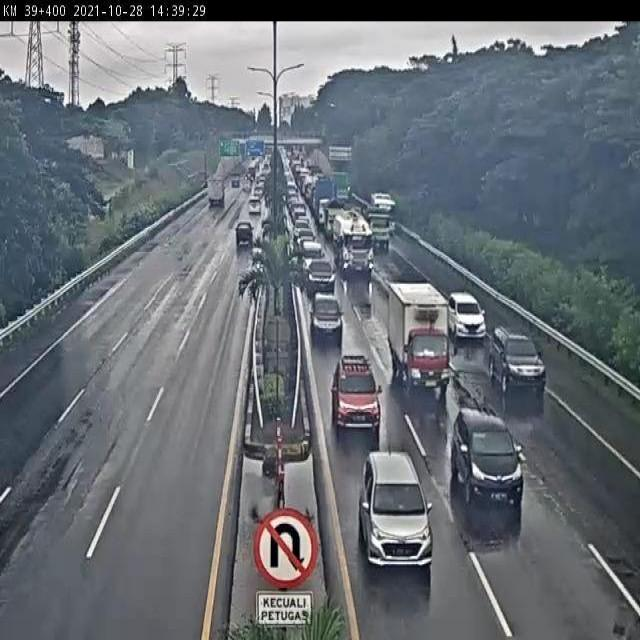big truck: (332, 209, 374, 275)
car: (353, 436, 436, 576), (447, 402, 530, 514), (489, 326, 548, 402), (329, 355, 381, 432), (446, 289, 486, 340), (309, 292, 343, 345), (306, 259, 335, 293), (234, 220, 254, 247)
small truck: (384, 277, 451, 399), (365, 200, 394, 253)
